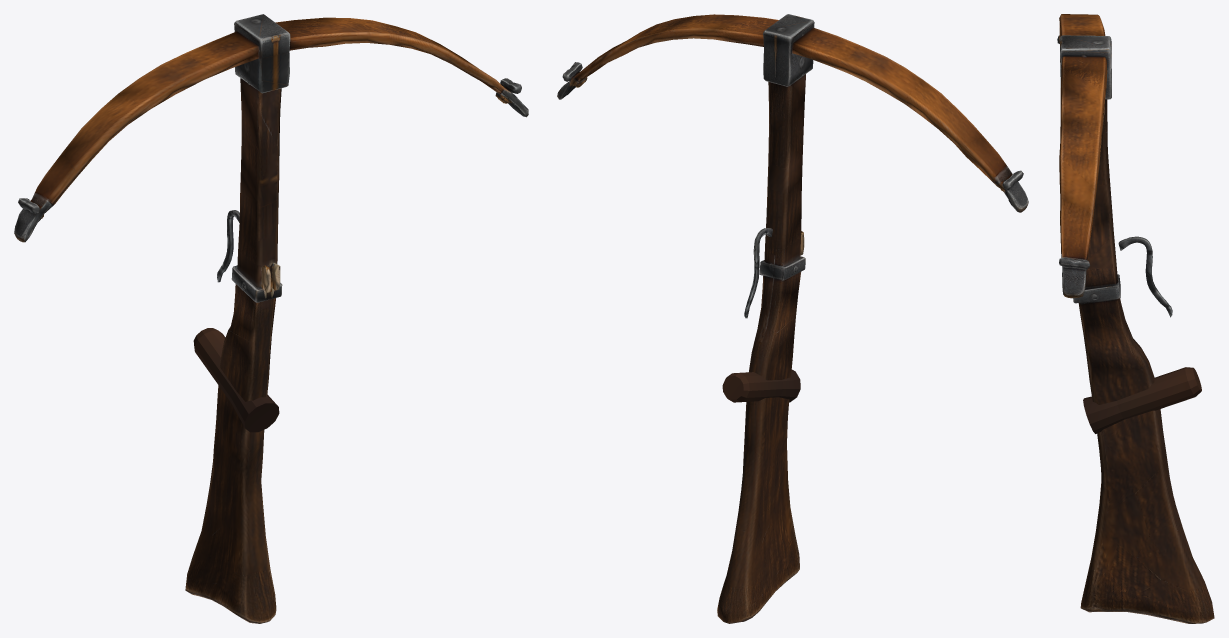
Rendered from mm8_m416_crossbow.glb.
The picture shows the model from 3 angles, left to right: view 1: azimuth 30°, elevation 25°; view 2: azimuth 150°, elevation 25°; view 3: azimuth 270°, elevation 25°; orthographic projection. The views are drawn at different scales.
Parts seen in each view (by area): view 1: Crossbow; view 2: Crossbow; view 3: Crossbow.
Part boxes in pixels (bbox=[...]): Crossbow: bbox=[14, 14, 528, 623]; Crossbow: bbox=[557, 14, 1028, 623]; Crossbow: bbox=[1057, 14, 1214, 623].
Size of the model in its own units: 0.529 by 0.6011 by 0.1488.
Materials: 1 (1 with a texture image).
